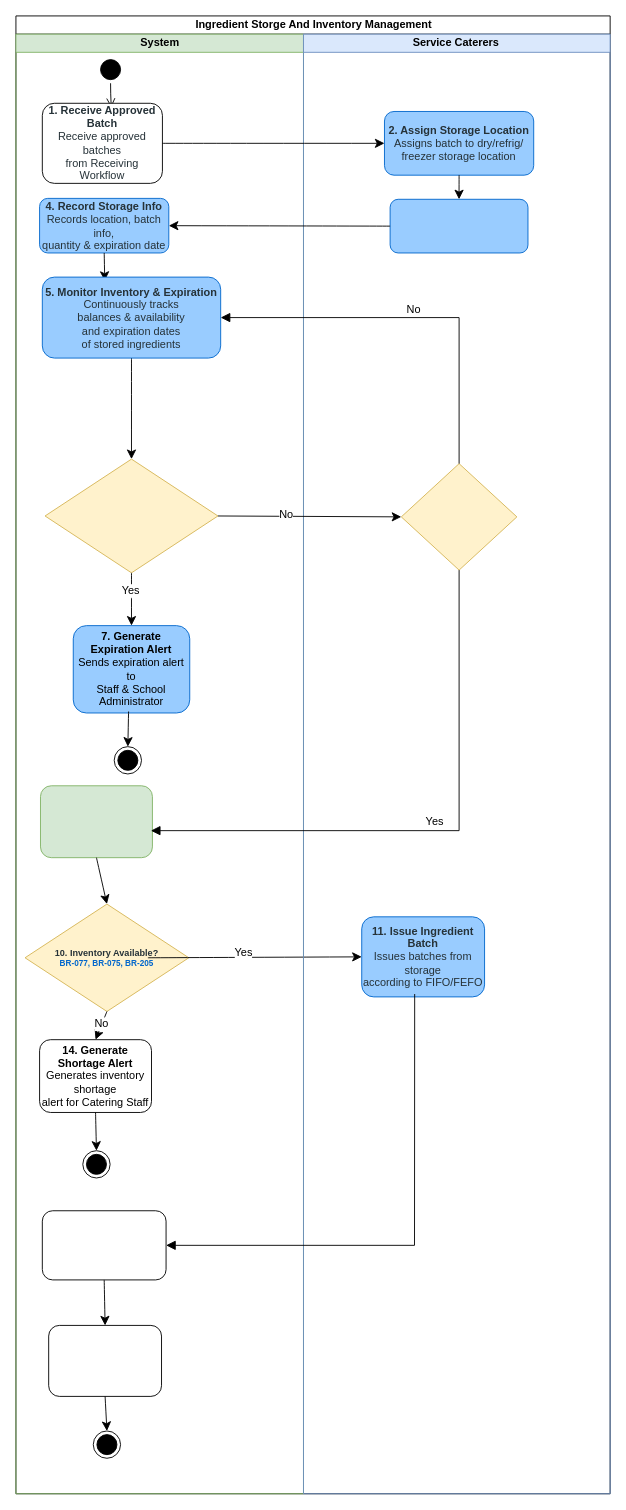
Some shapes in this 626 by 1510 pixel diagram are drawn without their labels. The centre of each missing label's shape, as x and y in pixels:
12. Update Inventory Quantity Updates inventory balance & batch quantity: the point at 103,1245
13. Record Transaction Records inventory movement in audit log & history: the point at 105,1360
3. Store Ingredient Batch Places batch in designated physical storage area: the point at 458,225
6. Expiration Alert Required? BR-205, BR-075, BR-202 Luật ATTP 55/2010 Điều 10: the point at 131,515
8. Ingredient Request Received?: the point at 458,516
9. Verify Availability Verifies sufficient inventory for requested ingredients: the point at 96,821
